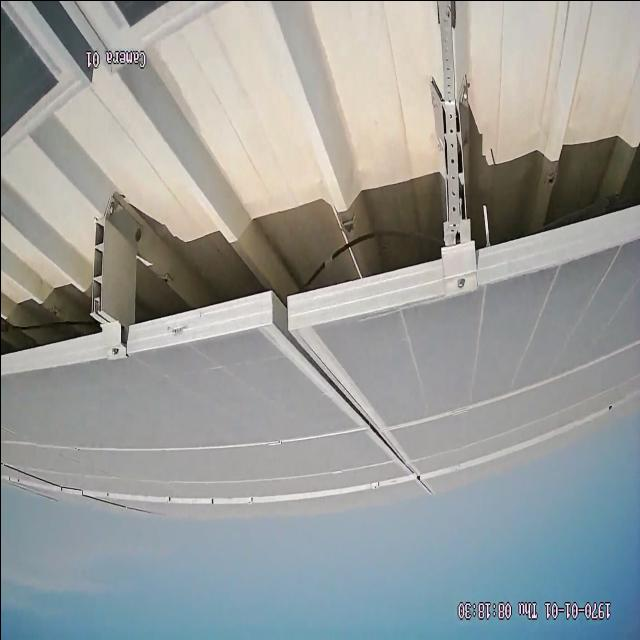interior panel: (264, 335, 420, 466)
outher panel: (0, 0, 640, 369)
